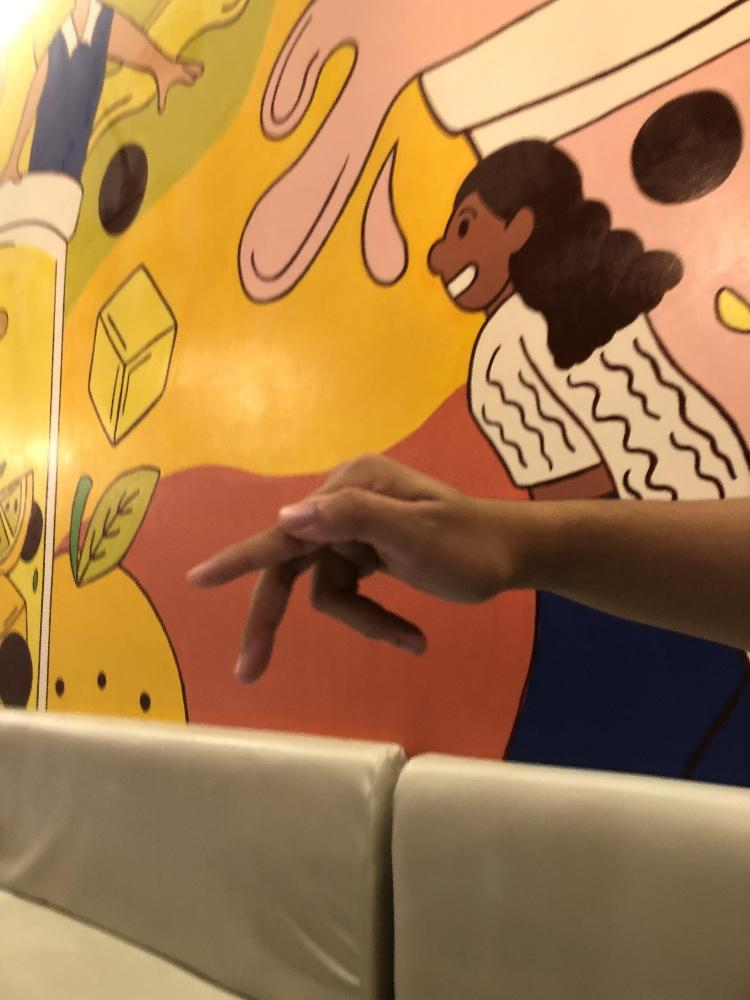p: (181, 449, 521, 685)
